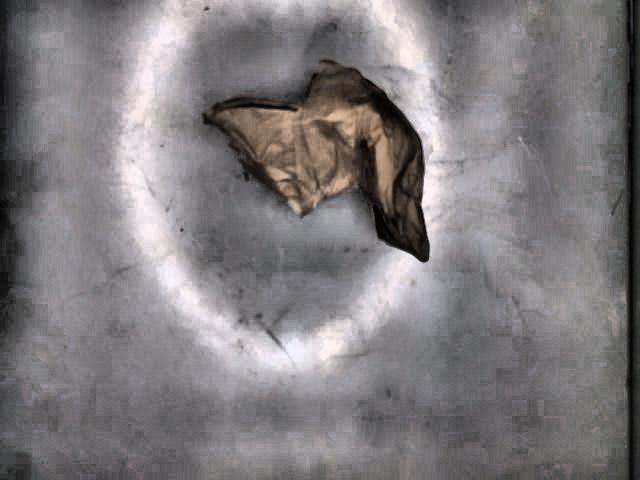Paper: (204, 56, 433, 263)
